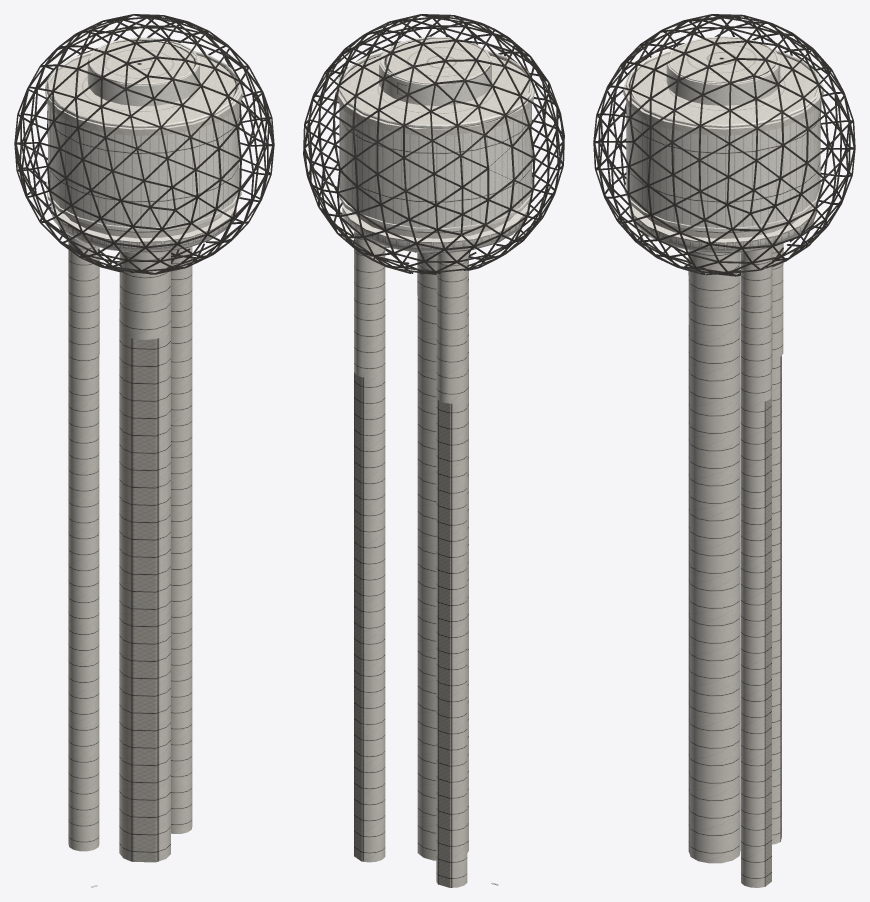
Rendered from sponsor-globe-flat-4.glb.
3 views of the same model, side by side, from view 1: azimuth 30°, elevation 25°; view 2: azimuth 150°, elevation 25°; view 3: azimuth 270°, elevation 25° (orthographic).
Visible parts, largest first — view 1: Support2_SupportMAT_0.001, MainRoom, PlatonicSphere, Support2, Support2_SupportMAT_0.002; view 2: MainRoom, PlatonicSphere, Support2, Support2_SupportMAT_0.002, Support2_SupportMAT_0.001; view 3: Support2_SupportMAT_0.001, MainRoom, PlatonicSphere, Support2_SupportMAT_0.002, Support2.
Part boxes in pixels (left/top/right/bottom): Support2_SupportMAT_0.001: left=119, top=251, right=170, bottom=862; MainRoom: left=45, top=37, right=242, bottom=252; PlatonicSphere: left=14, top=14, right=274, bottom=274; Support2: left=68, top=236, right=99, bottom=851; Support2_SupportMAT_0.002: left=171, top=247, right=192, bottom=833; MainRoom: left=336, top=36, right=534, bottom=253; PlatonicSphere: left=303, top=14, right=564, bottom=274; Support2: left=436, top=251, right=467, bottom=887; Support2_SupportMAT_0.002: left=354, top=231, right=385, bottom=862; Support2_SupportMAT_0.001: left=417, top=253, right=468, bottom=860; Support2_SupportMAT_0.001: left=688, top=250, right=740, bottom=863; MainRoom: left=623, top=36, right=823, bottom=253; PlatonicSphere: left=593, top=14, right=855, bottom=276; Support2_SupportMAT_0.002: left=741, top=248, right=772, bottom=887; Support2: left=772, top=243, right=783, bottom=844.
Bounding box in the file's own units: 26.16 × 93.22 × 26.05.
6 materials, 6 textured.
